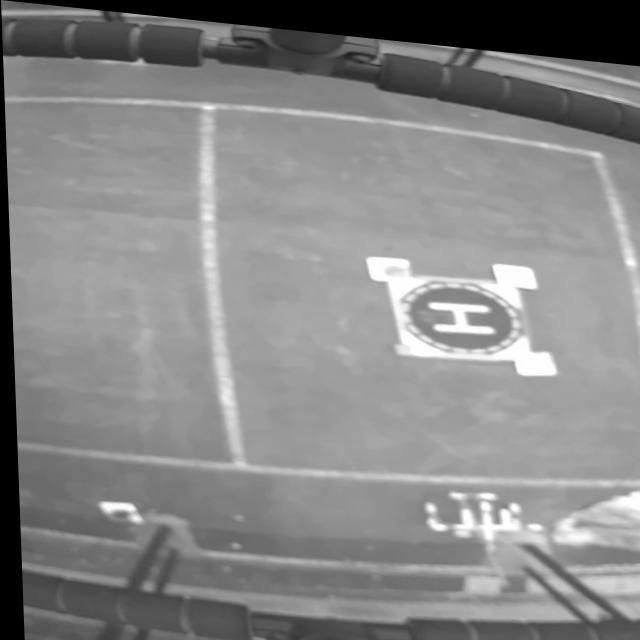Helipad: (424, 292, 493, 325)
